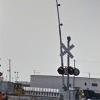Traffic light: (52, 57, 81, 86)
